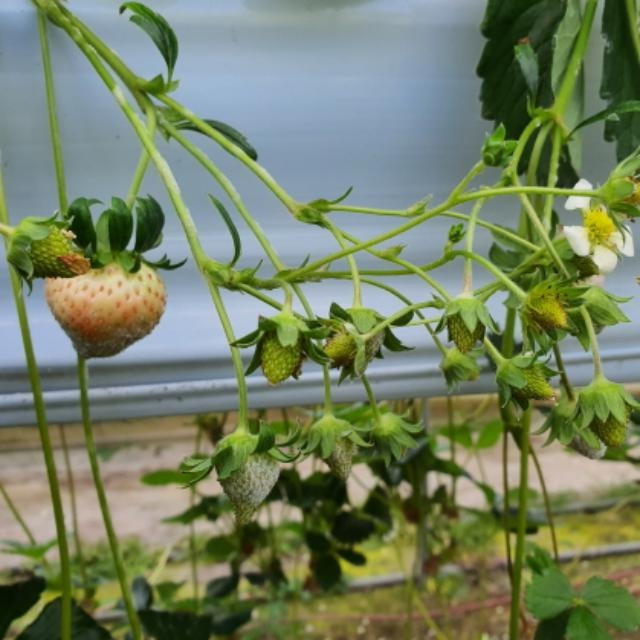Powdery Mildew Fruit: (211, 431, 281, 525), (307, 416, 355, 480), (554, 402, 605, 462)
